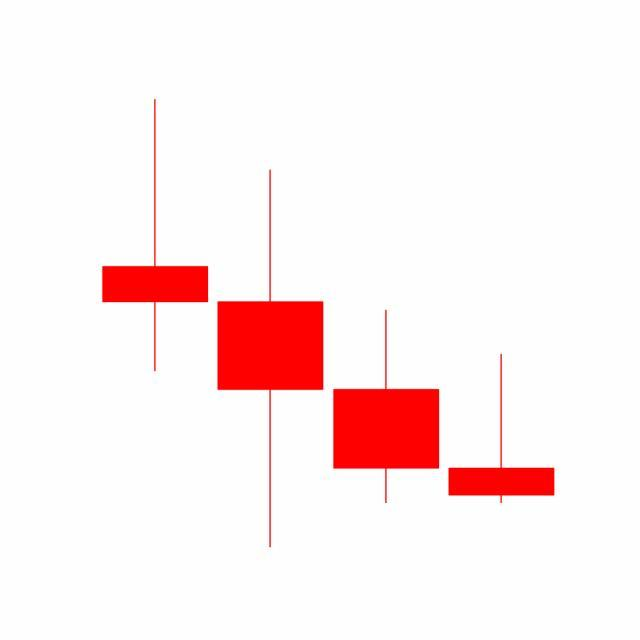Gravestone Doji: (444, 353, 560, 507)
